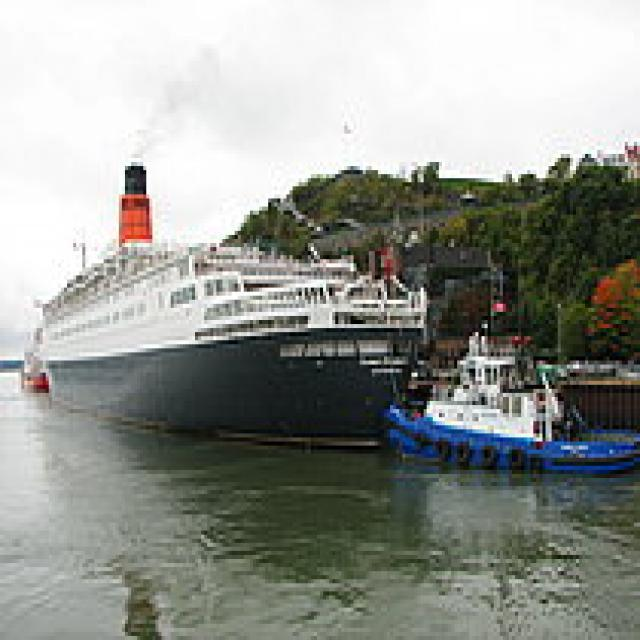Ship: (31, 151, 443, 447)
